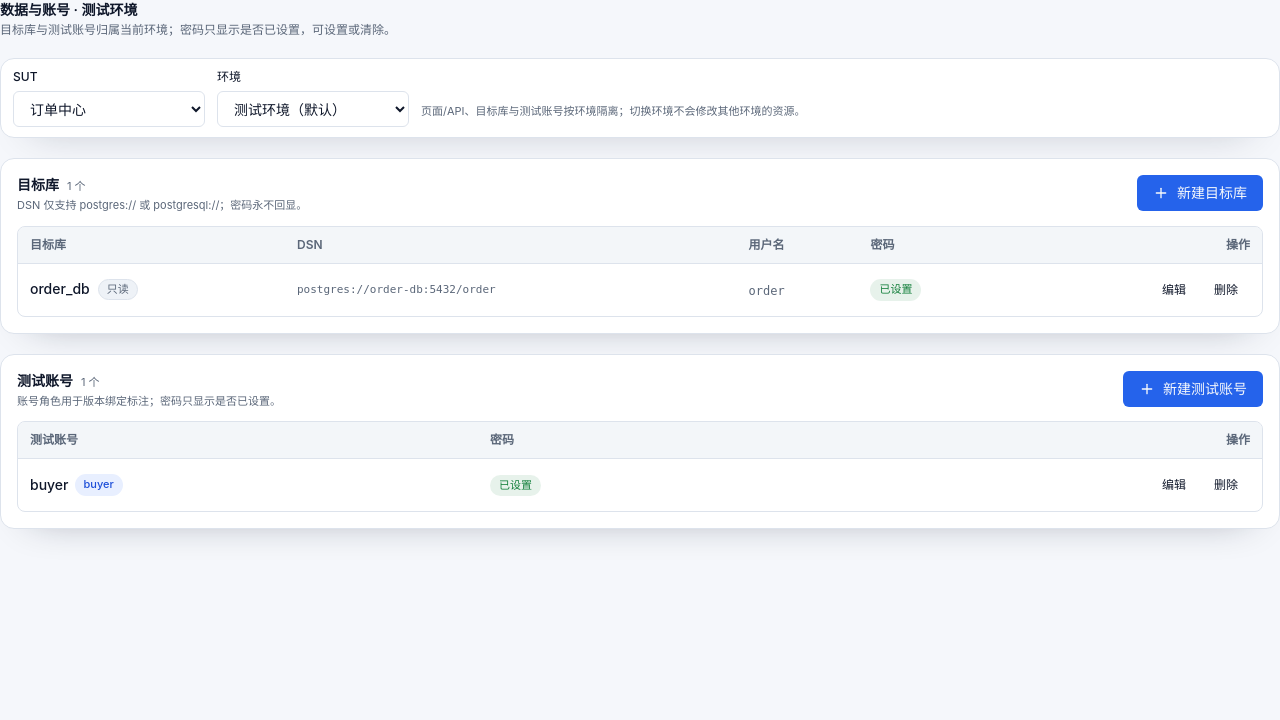
Test: DataAccessPanel › surfaces a 409 when an account cannot be deleted because a version references it
Click the button with aria-label "删除账号 buyer".
click(1226, 485)  # box [1202, 469, 1250, 501]
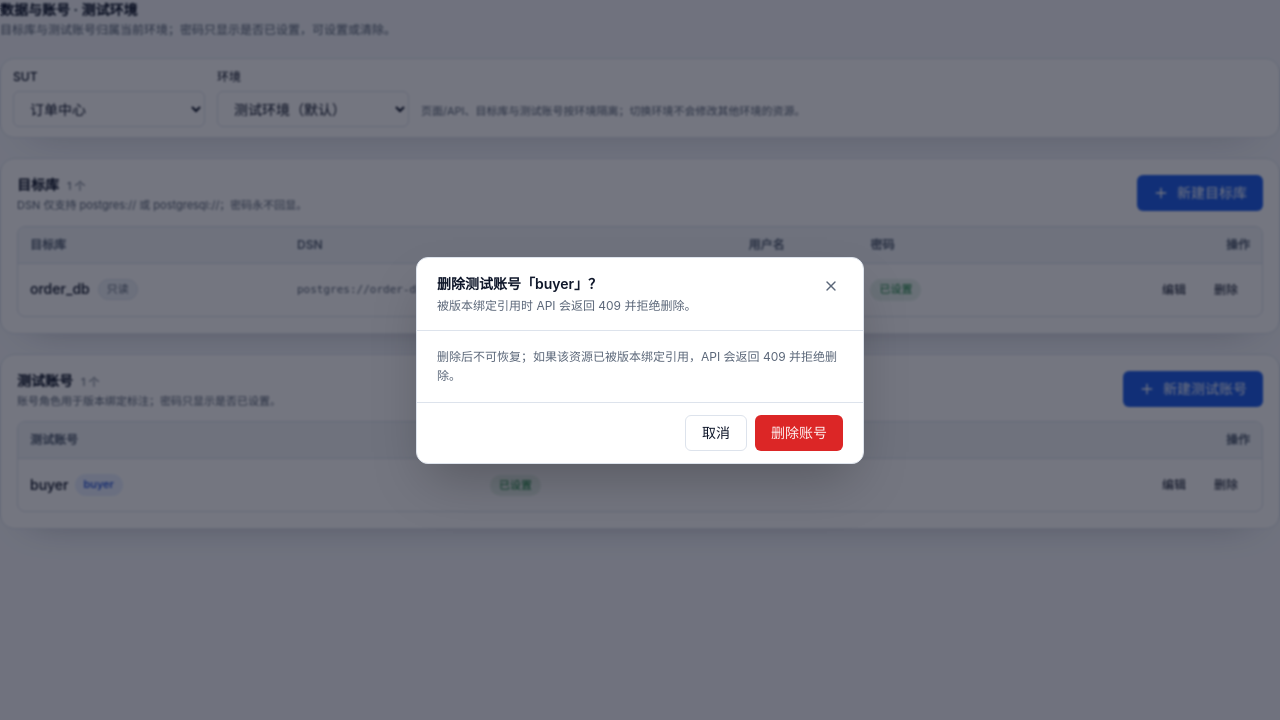
Click the button "删除账号".
click(799, 432)  # box [755, 414, 843, 450]
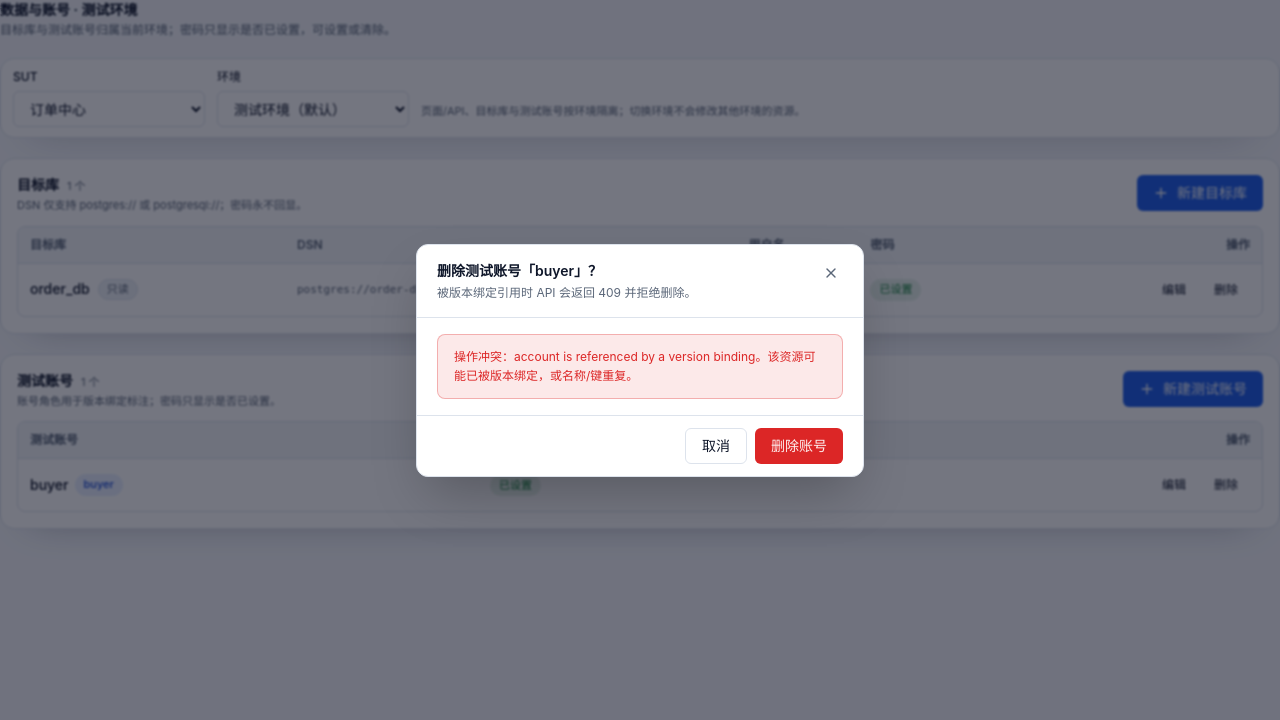
Check: the text "操作冲突" is shown, box [454, 348, 816, 383]
